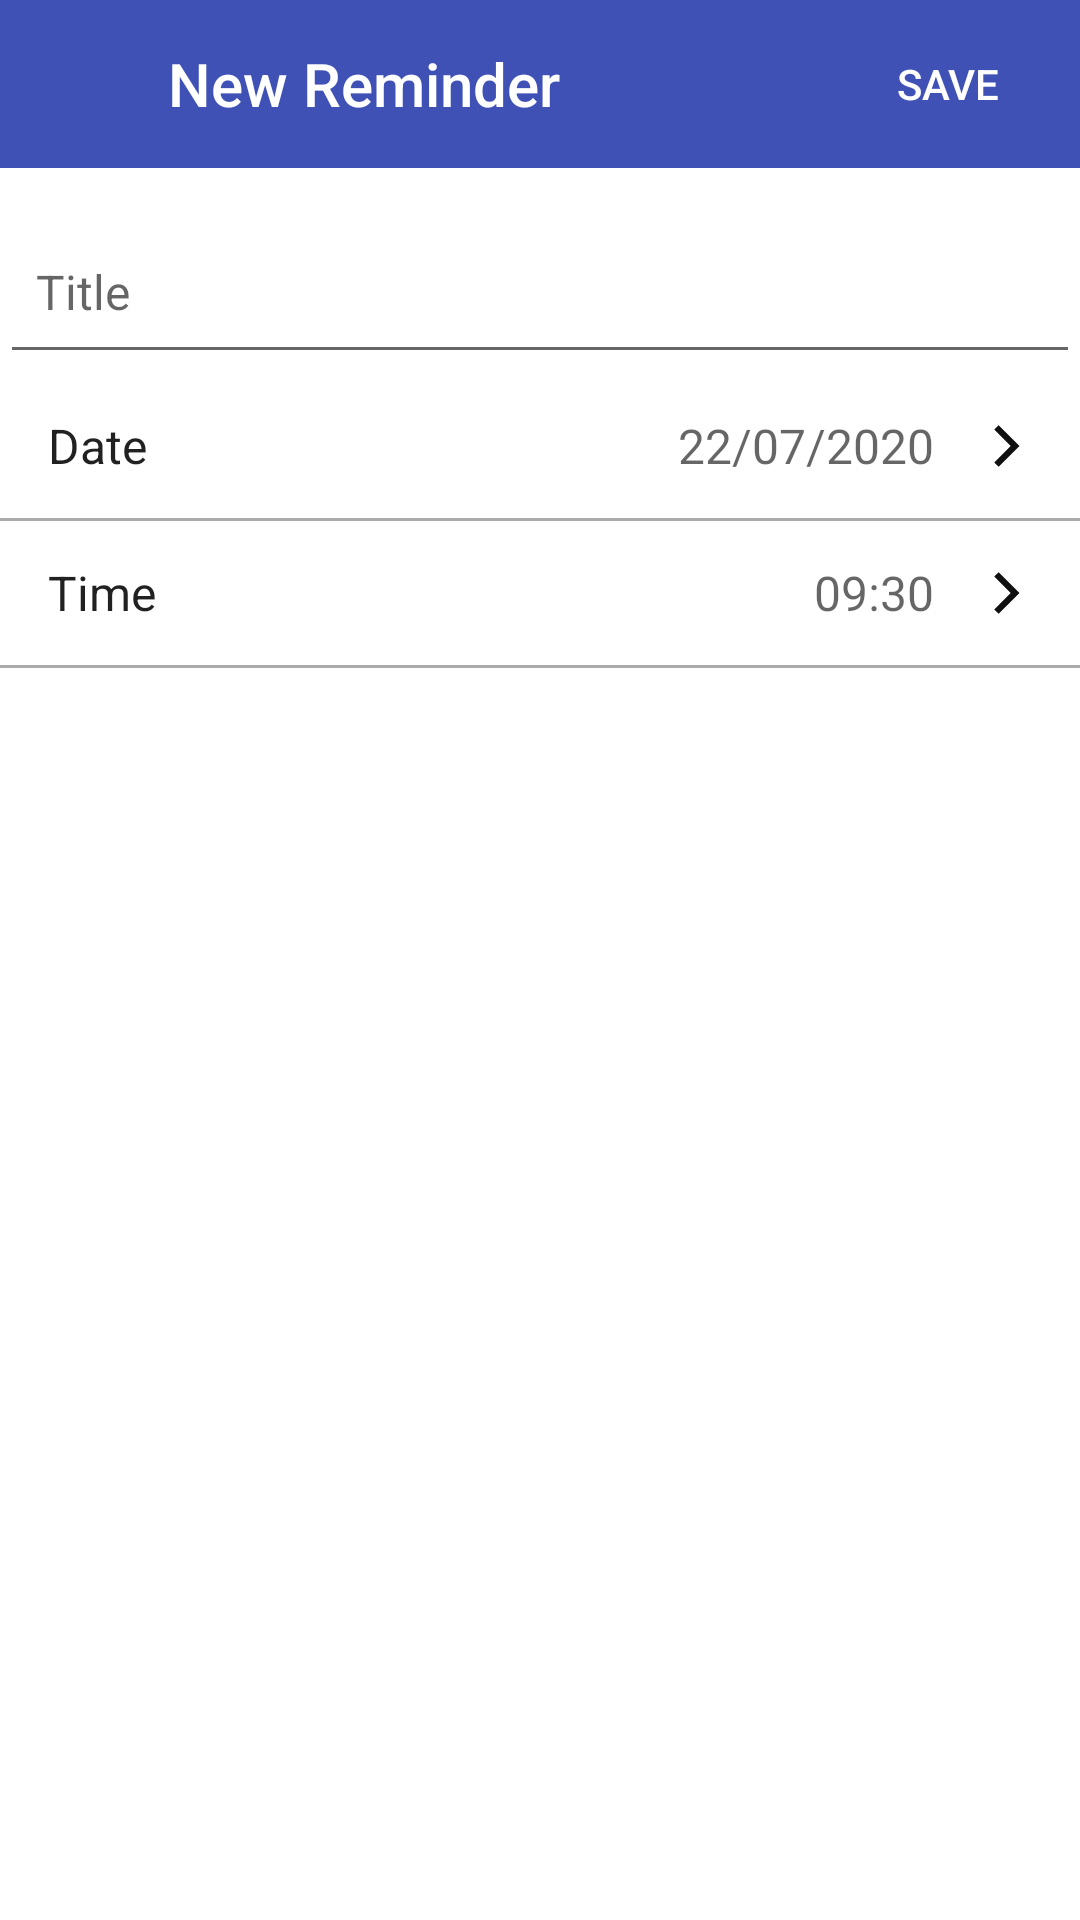

Locate icon controls on the screen. Image size 1080w x 1920h, boxes as [x1, y1, x2, y2].
open: [994, 425, 1020, 467], [994, 572, 1020, 614]
